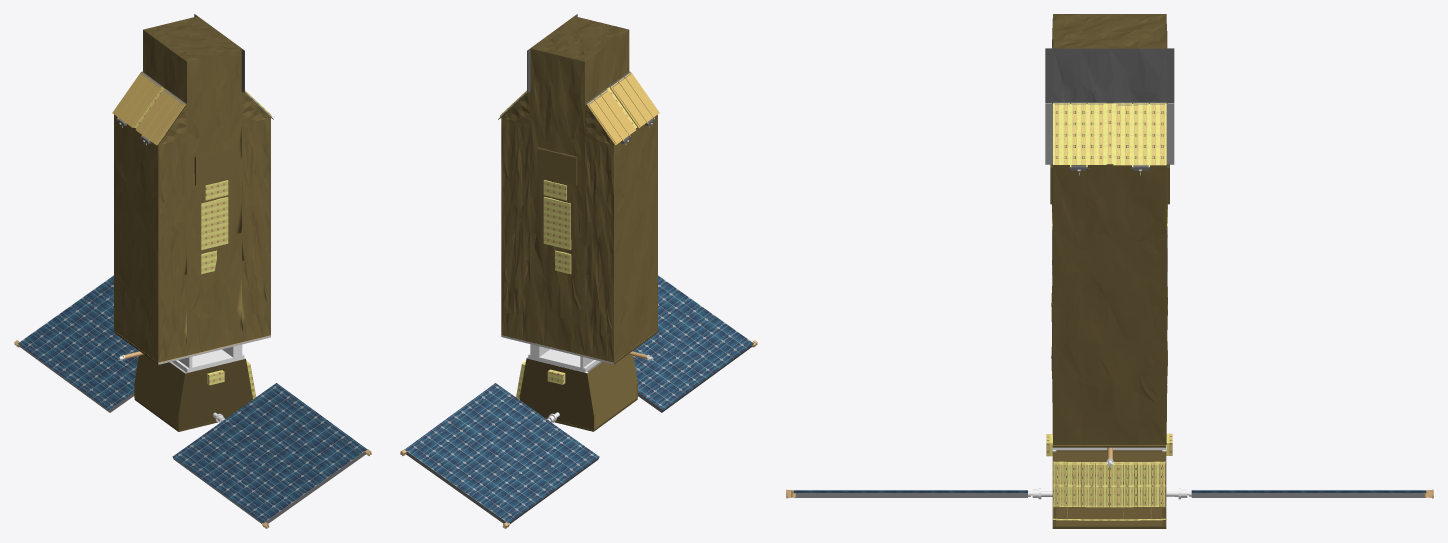
The model's file is gocturk1.glb.
The picture shows the model from 3 angles, left to right: view 1: azimuth 30°, elevation 25°; view 2: azimuth 150°, elevation 25°; view 3: azimuth 270°, elevation 25°; orthographic projection. The views are drawn at different scales.
Visible parts, largest first — view 1: Empty_Mesh; view 2: Empty_Mesh; view 3: Empty_Mesh.
Boxes of the visible parts, x1,y1,x2,y2 form: Empty_Mesh: (14, 14, 371, 528); Empty_Mesh: (400, 14, 757, 528); Empty_Mesh: (786, 14, 1433, 528).
Size of the model in its own units: 1.53 by 3.91 by 4.6.
Materials: 23 (2 with a texture image).
